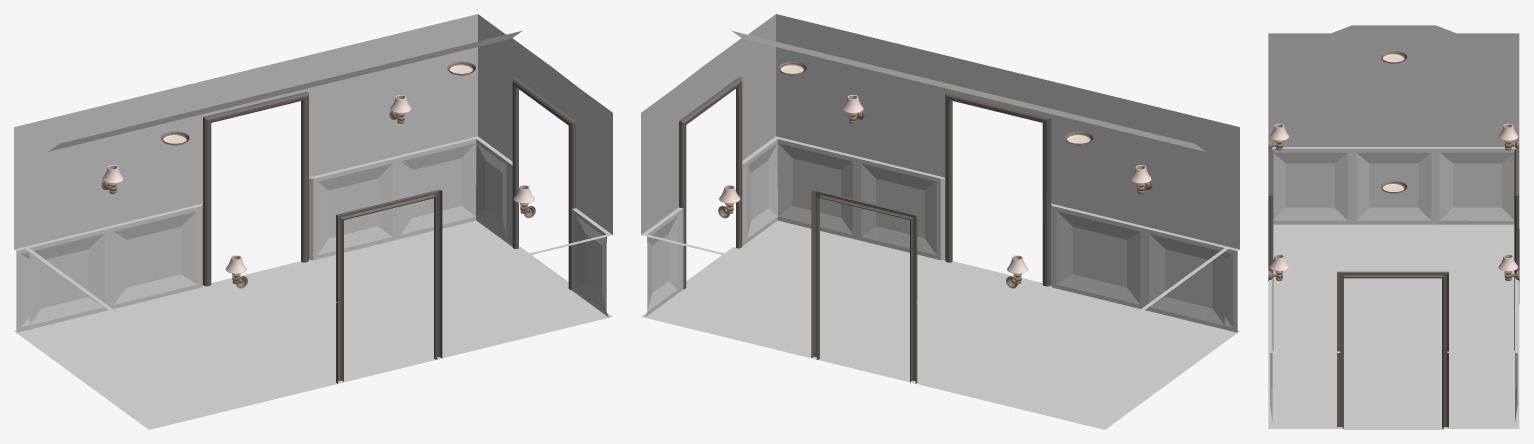
The model's file is corridor.glb.
The picture shows the model from 3 angles, left to right: view 1: azimuth 30°, elevation 25°; view 2: azimuth 150°, elevation 25°; view 3: azimuth 270°, elevation 25°; orthographic projection. The views are drawn at different scales.
Visible parts, largest first — view 1: CorridorMiddle, CorridorStart, CorridorEnd, DoorFrames, DoorFrame; view 2: CorridorMiddle, CorridorStart, DoorFrames, CorridorEnd, DoorFrame; view 3: CorridorEnd, CorridorMiddle, CorridorStart, DoorFrames, DoorFrame.
Boxes of the visible parts, x1,y1,x2,y2 form: CorridorMiddle: [14, 14, 612, 429]; CorridorStart: [395, 14, 612, 317]; CorridorEnd: [23, 121, 241, 427]; DoorFrames: [101, 61, 535, 383]; DoorFrame: [512, 78, 575, 290]; CorridorMiddle: [641, 14, 1239, 429]; CorridorStart: [641, 14, 858, 335]; DoorFrames: [718, 61, 1152, 383]; CorridorEnd: [1012, 121, 1230, 427]; DoorFrame: [679, 77, 742, 289]; CorridorEnd: [1268, 25, 1519, 260]; CorridorMiddle: [1268, 224, 1519, 428]; CorridorStart: [1268, 315, 1519, 429]; DoorFrames: [1268, 51, 1519, 350]; DoorFrame: [1337, 271, 1448, 428].
Bounding box in the file's own units: 5.98 × 2.7 × 3.01.
